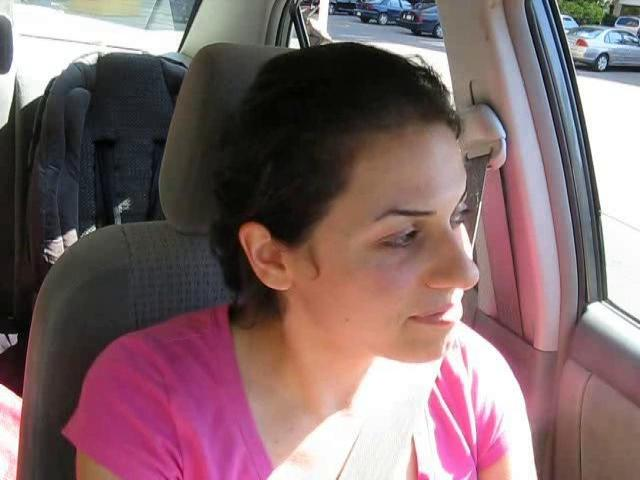eye_open: (373, 223, 428, 257)
face: (330, 167, 494, 365)
